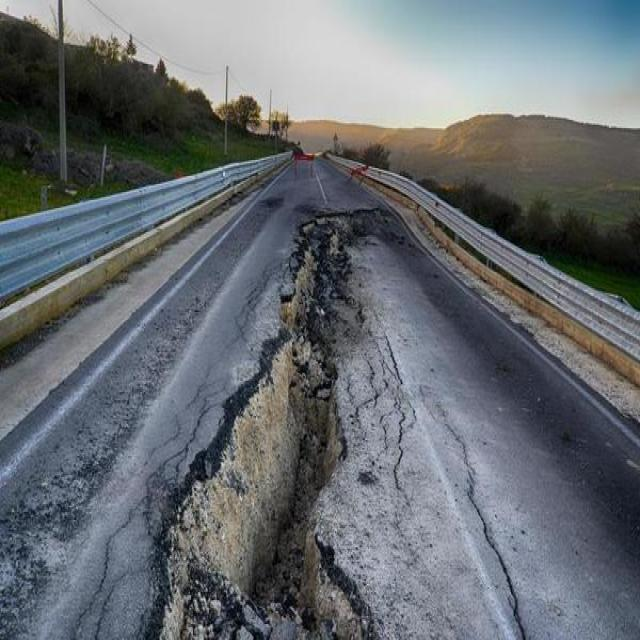road collapse: (54, 147, 640, 638)
